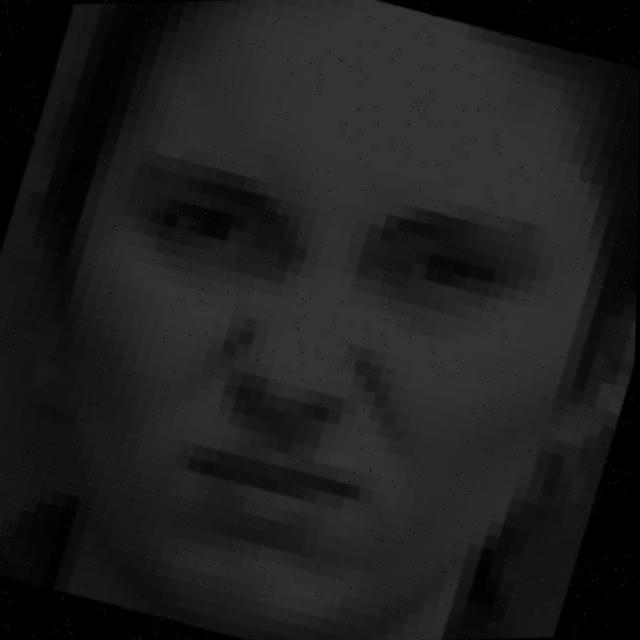Disgust: (53, 106, 640, 611)
